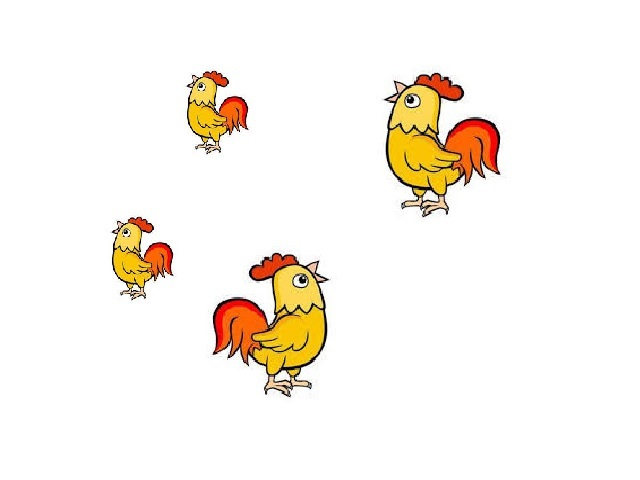crown: (247, 255, 297, 282), (419, 74, 464, 100), (202, 70, 232, 86), (127, 215, 152, 232)
eyes: (292, 272, 312, 291), (405, 91, 423, 108), (120, 227, 131, 239), (197, 82, 209, 92)
feet: (400, 192, 455, 220), (267, 376, 315, 400), (120, 283, 155, 305), (194, 140, 223, 154)
tail: (213, 297, 271, 367), (447, 117, 501, 186), (218, 95, 249, 135), (145, 244, 174, 278)
